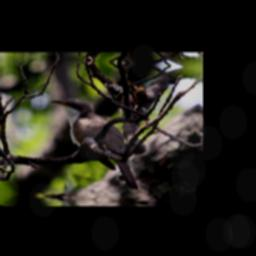Cuckoo: (39, 94, 149, 193)
